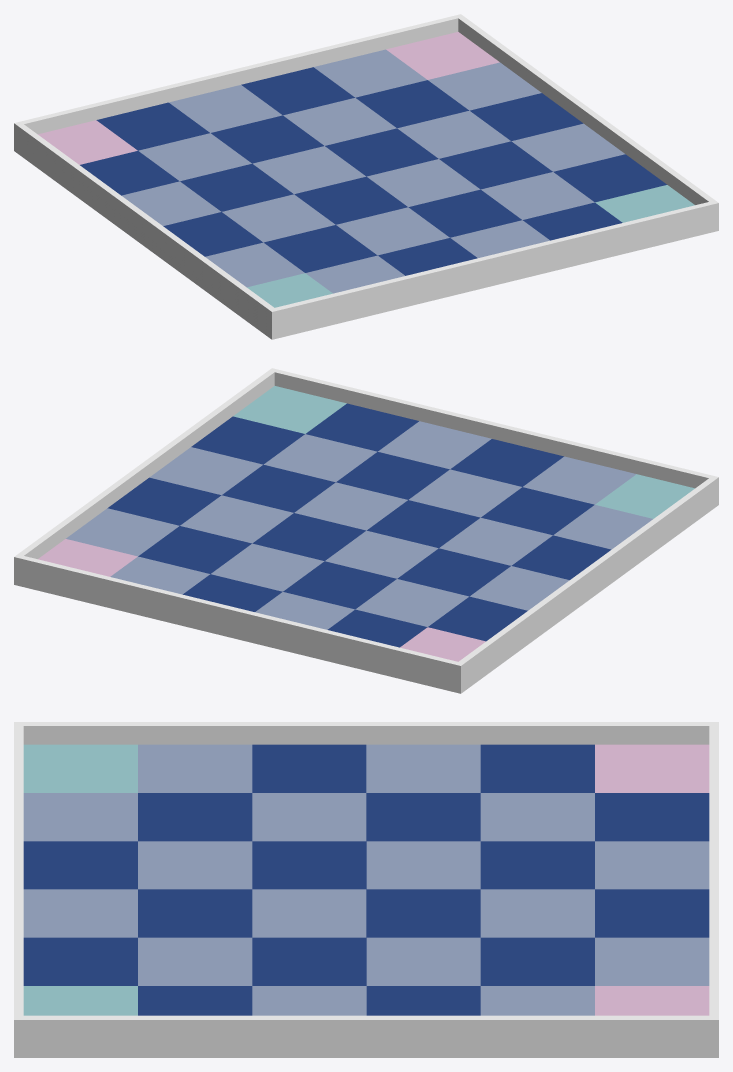
File: board.fbx
3 renders of one model, top to bottom at view 1: azimuth 30°, elevation 25°; view 2: azimuth 150°, elevation 25°; view 3: azimuth 270°, elevation 25°, orthographic. The views are drawn at different scales.
Visible parts, largest first — view 1: Board; view 2: Board; view 3: Board.
Boxes of the visible parts, left/top/right/bottom form: Board: left=14, top=14, right=718, bottom=339; Board: left=14, top=368, right=718, bottom=693; Board: left=14, top=722, right=718, bottom=1057.
Size of the model in its own units: 16 by 16 by 0.9528.
